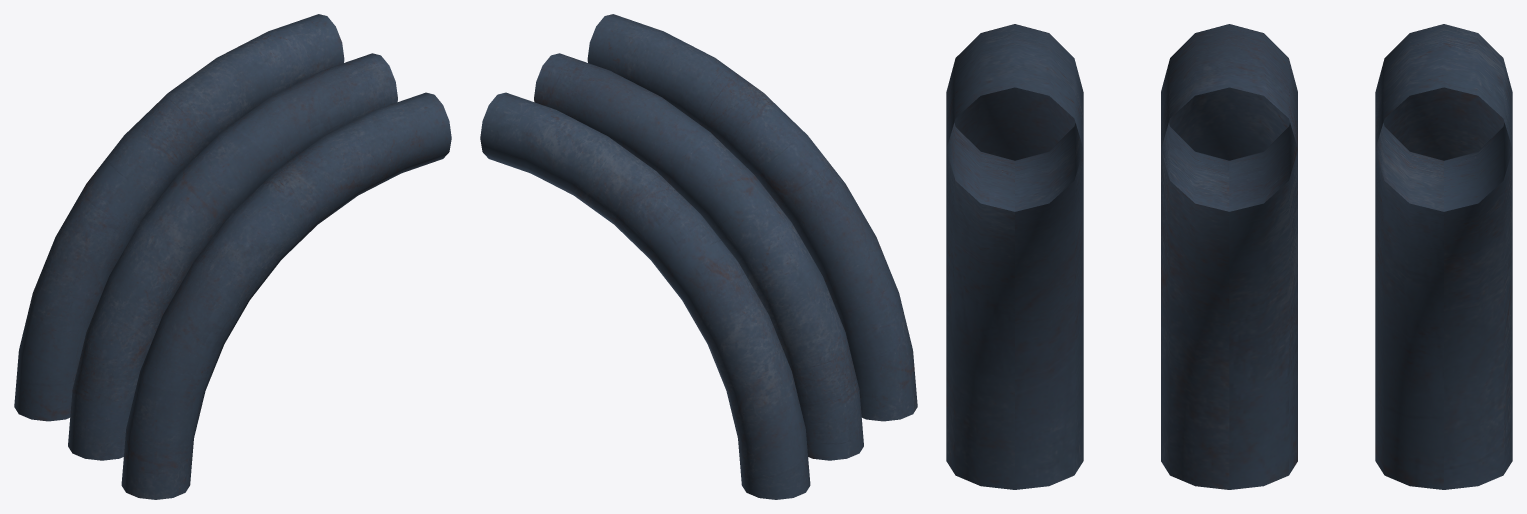
File: Pipe3_Courner3_L0.fbx
The picture shows the model from 3 angles, left to right: view 1: azimuth 30°, elevation 25°; view 2: azimuth 150°, elevation 25°; view 3: azimuth 270°, elevation 25°; orthographic projection. The views are drawn at different scales.
Parts seen in each view (by area): view 1: PIpe3_Courner3_L0; view 2: PIpe3_Courner3_L0; view 3: PIpe3_Courner3_L0.
Boxes of the visible parts, x1=… form: PIpe3_Courner3_L0: x1=14, y1=14, x2=451, y2=499; PIpe3_Courner3_L0: x1=480, y1=14, x2=917, y2=499; PIpe3_Courner3_L0: x1=946, y1=24, x2=1512, y2=489.
Size of the model in its own units: 55.33 by 55.33 by 43.99.
